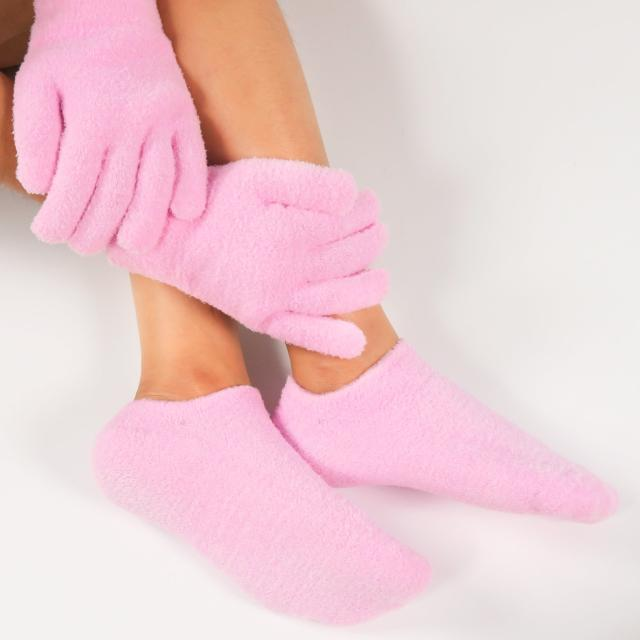sock: (91, 384, 432, 626), (271, 336, 619, 524)
